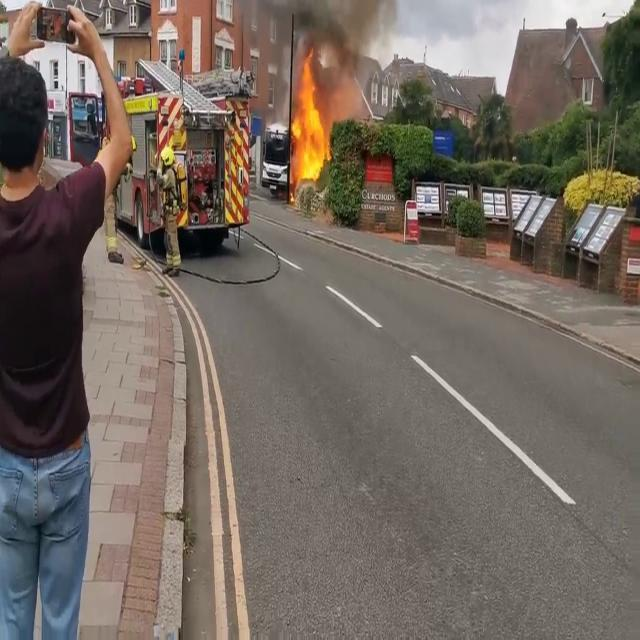Fire: (288, 53, 332, 191)
Smoke: (245, 1, 400, 95)
